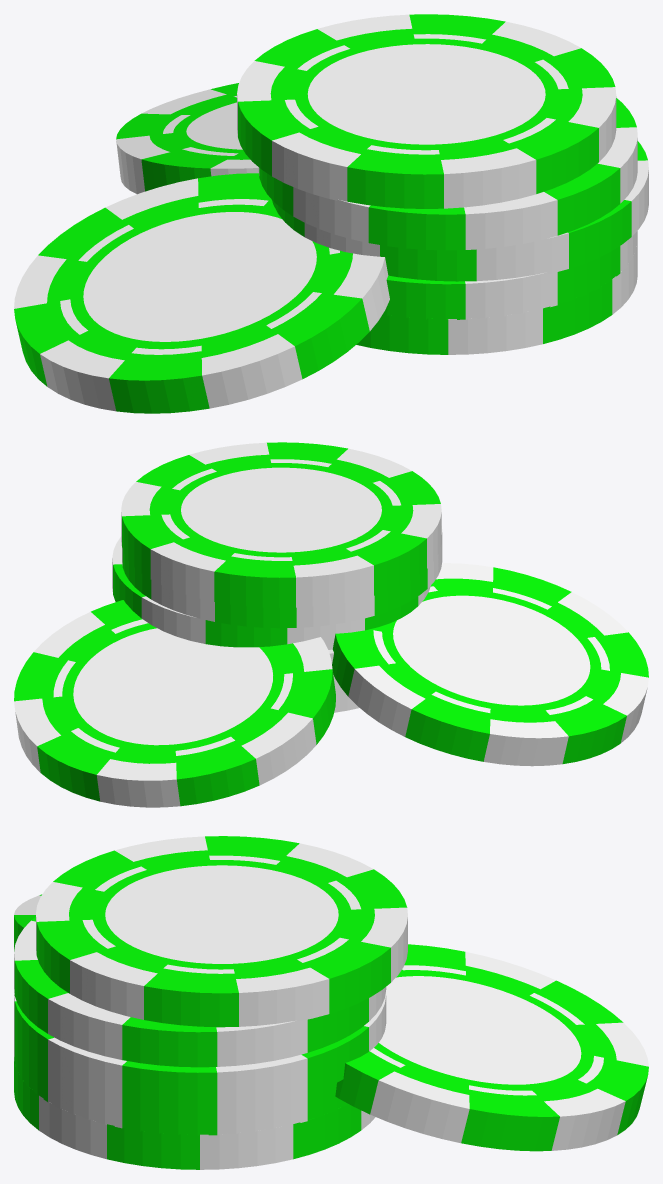
Rendered from stack_green.gltf.
3 views of the same model, one above another, from view 1: azimuth 30°, elevation 25°; view 2: azimuth 150°, elevation 25°; view 3: azimuth 270°, elevation 25° (orthographic). The views are drawn at different scales.
Visible parts, largest first — view 1: sidetwo, Cylinder.004, Cylinder.003, Cylinder.002, sideone, Cylinder, Cylinder.001; view 2: sideone, sidetwo, Cylinder.004, Cylinder.003, Cylinder.002; view 3: Cylinder.004, sideone, Cylinder.003, Cylinder.002, Cylinder, Cylinder.001, sidetwo.
Boxes of the visible parts, box(x1,y1,x2,y2) form: sidetwo: box(14, 173, 389, 413); Cylinder.004: box(237, 14, 616, 208); Cylinder.003: box(258, 98, 637, 250); Cylinder.002: box(272, 141, 648, 281); sideone: box(116, 83, 258, 194); Cylinder: box(356, 243, 637, 354); Cylinder.001: box(382, 231, 637, 319); sideone: box(14, 600, 335, 807); sidetwo: box(332, 563, 648, 766); Cylinder.004: box(121, 442, 441, 607); Cylinder.003: box(122, 526, 442, 628); Cylinder.002: box(112, 536, 430, 649); Cylinder.004: box(36, 836, 407, 1027); sideone: box(335, 944, 648, 1151); Cylinder.003: box(14, 917, 386, 1067); Cylinder.002: box(14, 992, 386, 1107); Cylinder: box(14, 1057, 375, 1169); Cylinder.001: box(14, 1030, 348, 1135); sidetwo: box(14, 894, 41, 951).
Size of the model in its own units: 5.12 by 1.59 by 4.91.
